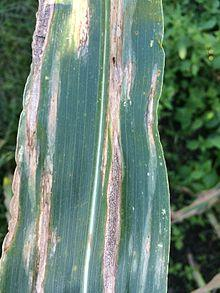Corn leaf blight: (7, 1, 176, 293)
